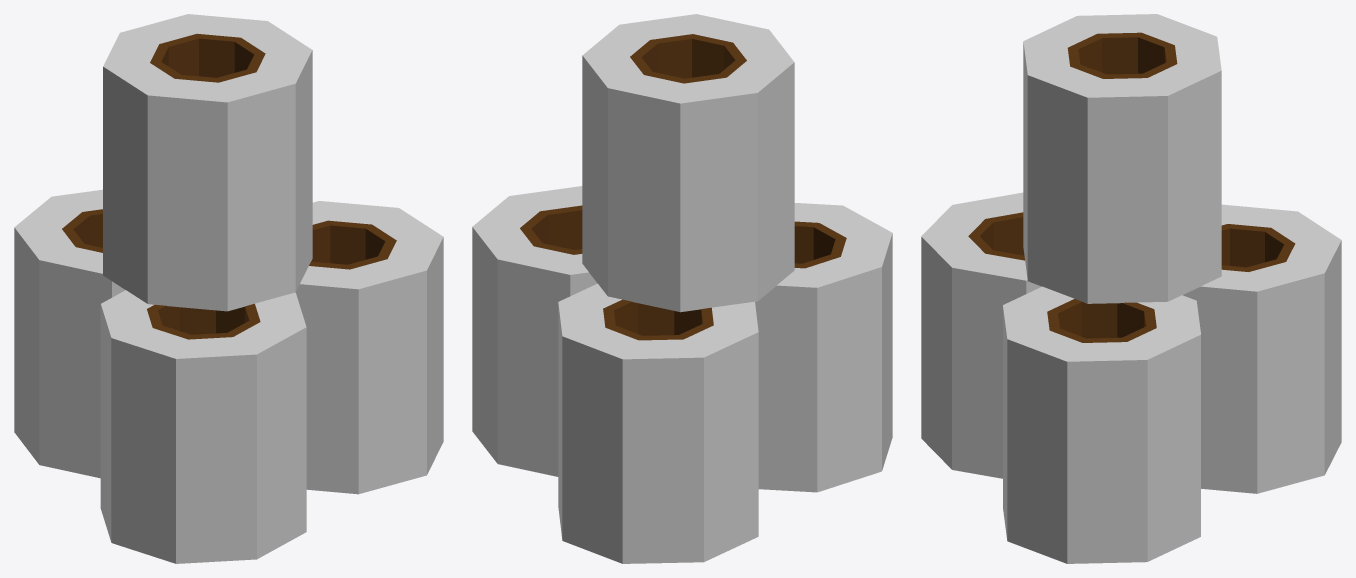
Rendered from item12.fbx.
3 renders of one model, left to right at view 1: azimuth 30°, elevation 25°; view 2: azimuth 150°, elevation 25°; view 3: azimuth 270°, elevation 25°, orthographic.
Visible parts, largest first — view 1: Bathroom_ToiletPaperPile; view 2: Bathroom_ToiletPaperPile; view 3: Bathroom_ToiletPaperPile.
Part boxes in pixels (<box>): Bathroom_ToiletPaperPile: <box>14,14,443,563</box>; Bathroom_ToiletPaperPile: <box>472,14,892,563</box>; Bathroom_ToiletPaperPile: <box>921,14,1341,563</box>.
Size of the model in its own units: 33.45 by 37.47 by 34.98.
